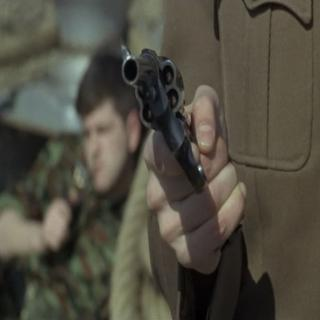gun: (116, 41, 242, 269)
